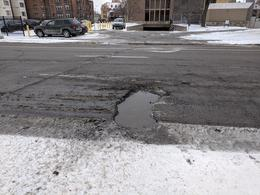pothole: (111, 77, 164, 136)
